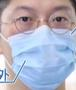with_mask: (1, 1, 76, 90)
